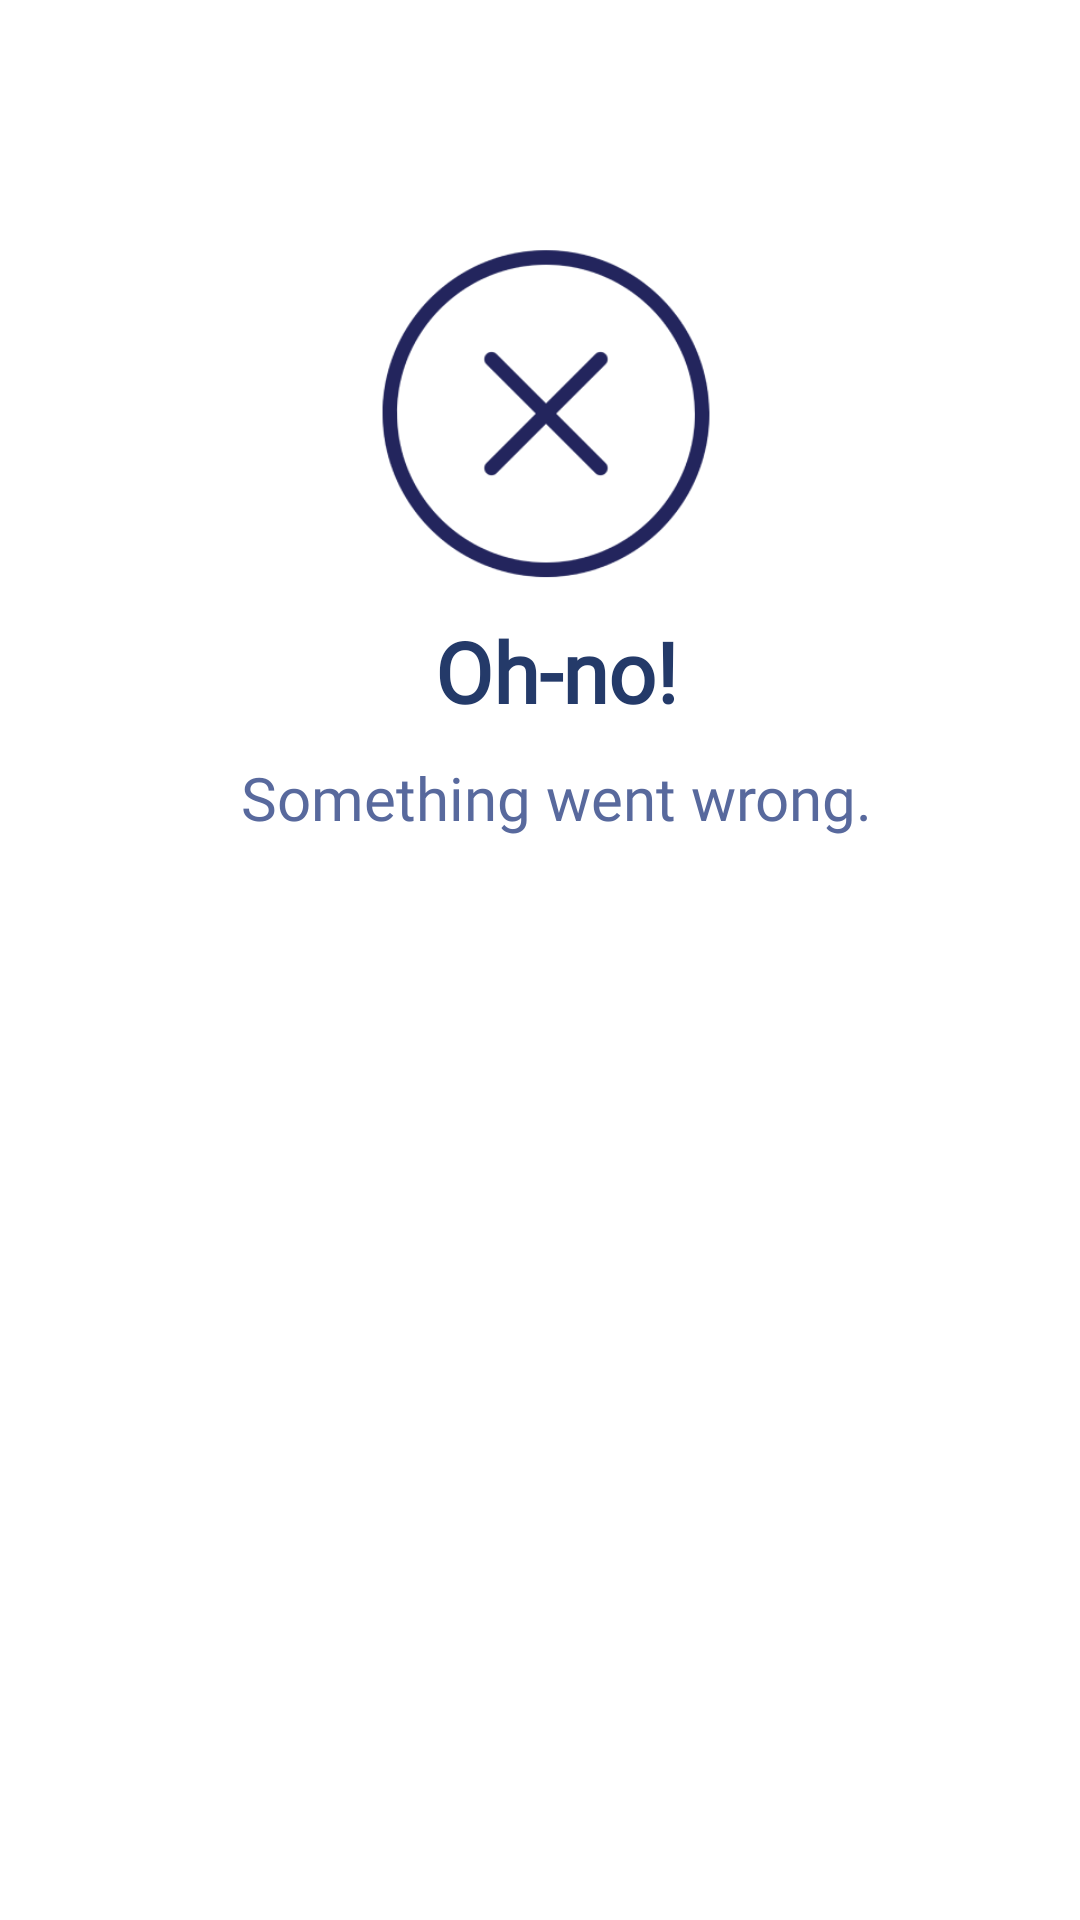

Icons on this 1080 x 1920 Android screen, each with its box as Rect(x1, y1, x2, y2):
error: Rect(382, 250, 710, 577)
